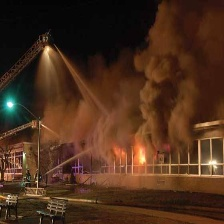fire: (133, 145, 148, 166)
smoke: (43, 1, 224, 150)
